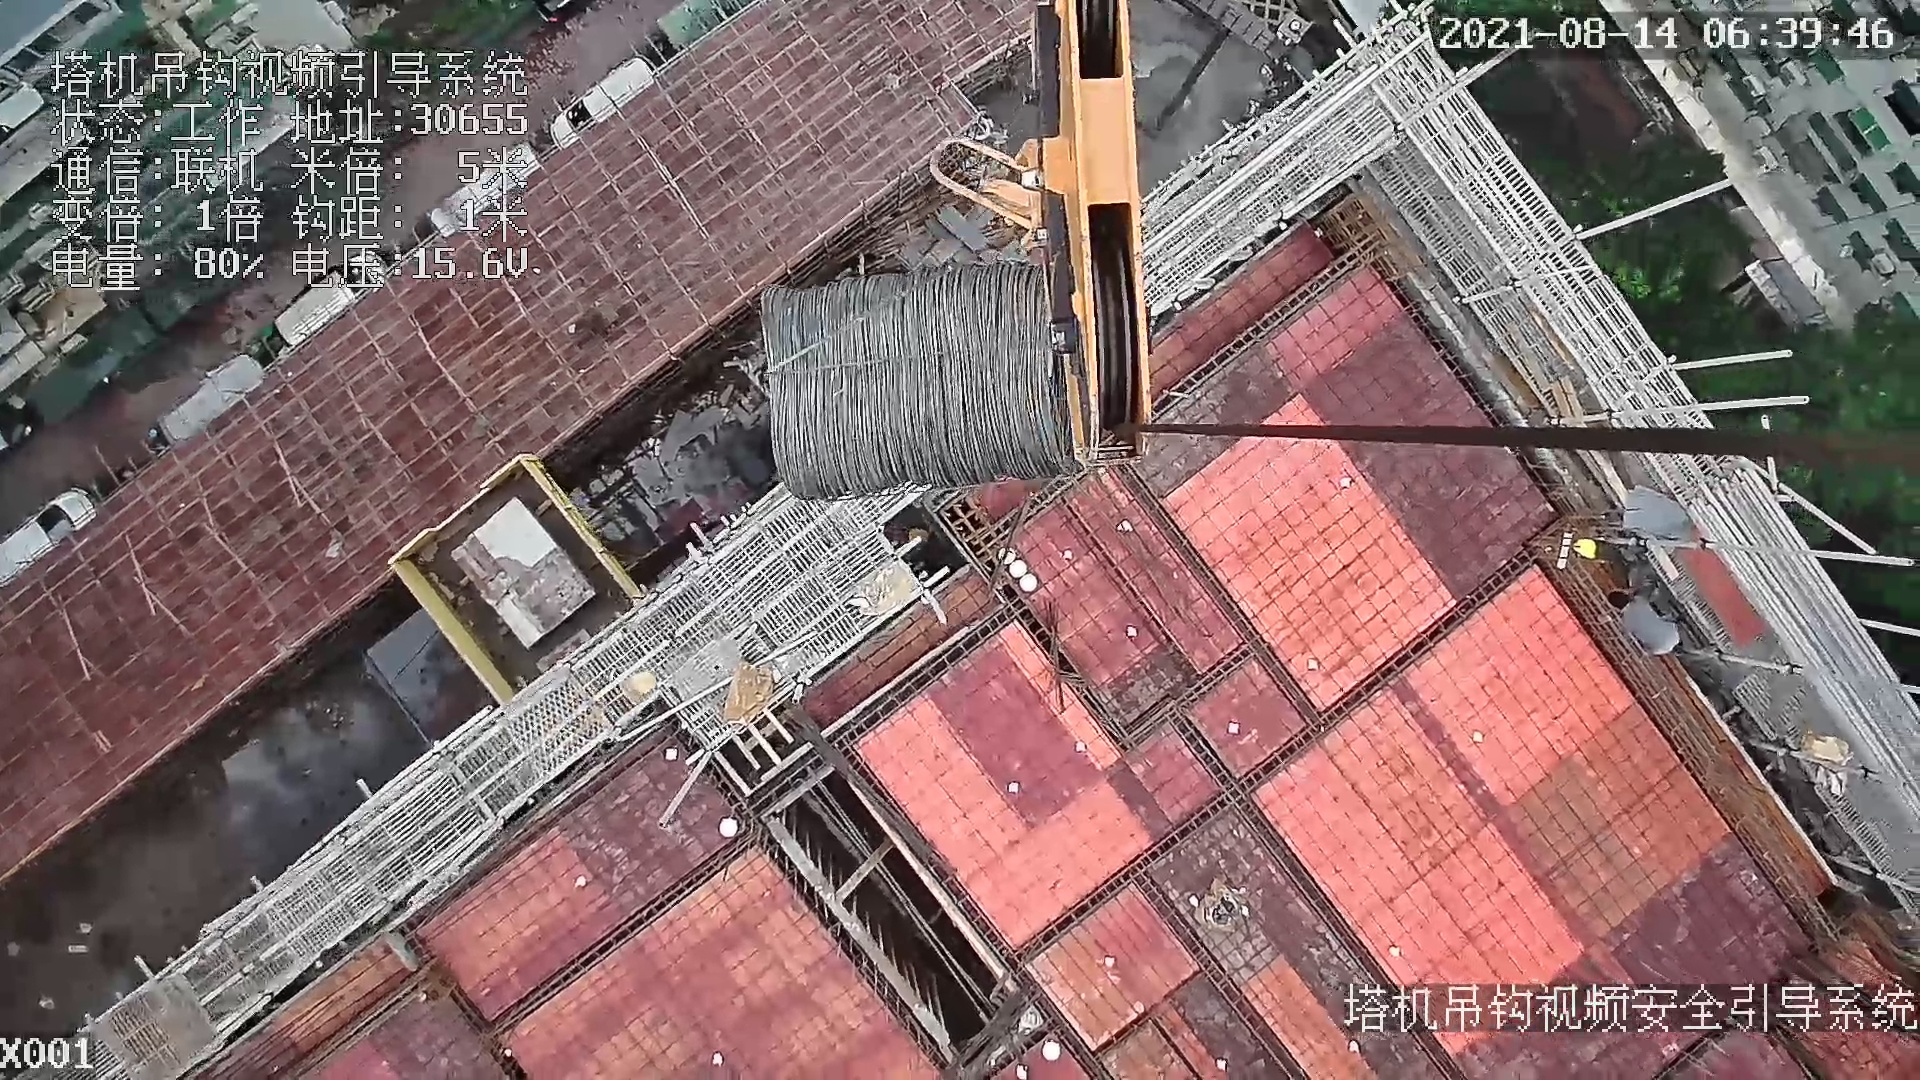hook: (918, 1, 1162, 465)
person: (1608, 573, 1683, 658)
